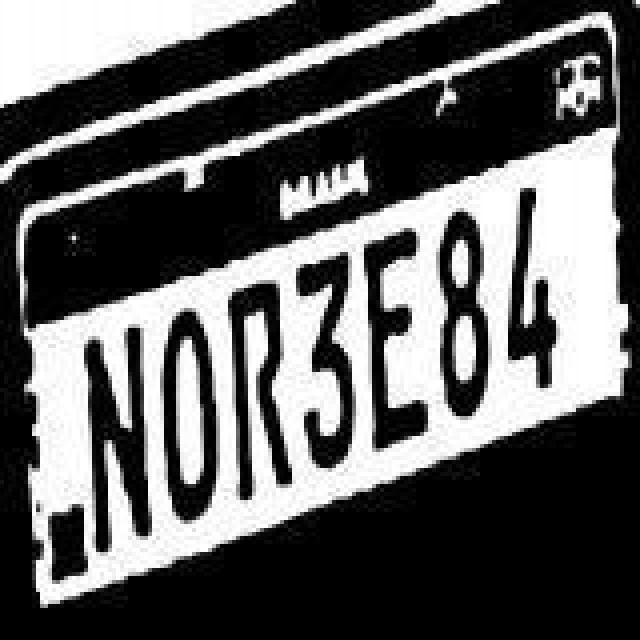3: (296, 248, 360, 480)
4: (502, 176, 562, 408)
8: (436, 204, 492, 428)
E: (362, 226, 430, 462)
N: (80, 316, 152, 564)
O: (158, 300, 218, 532)
R: (222, 284, 290, 500)
